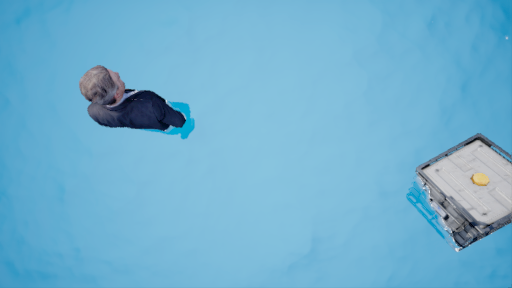person: (80, 63, 194, 144)
